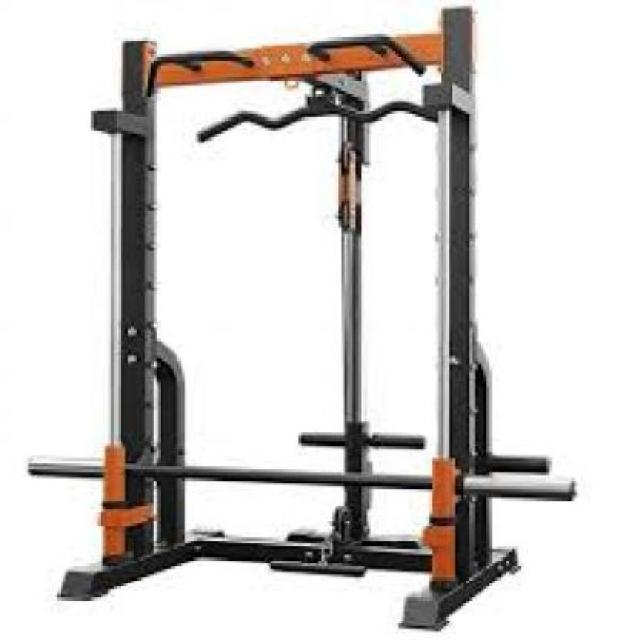smith machine: (29, 6, 576, 632)
